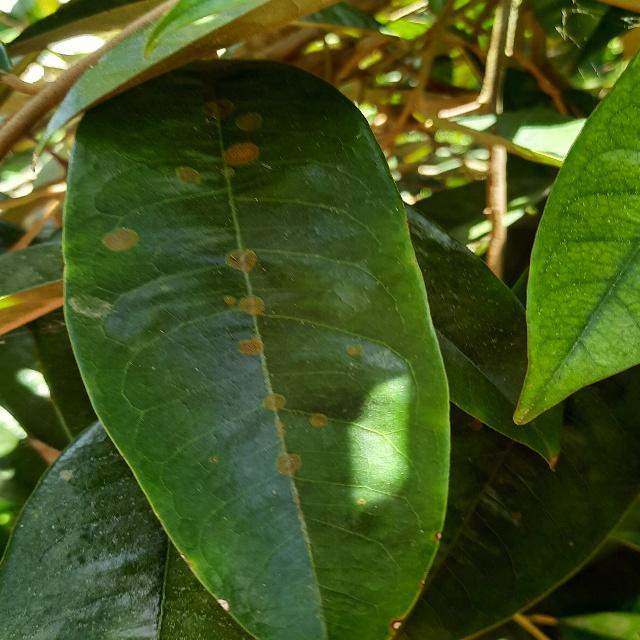Algal Leaf Spot: (55, 49, 461, 640)
